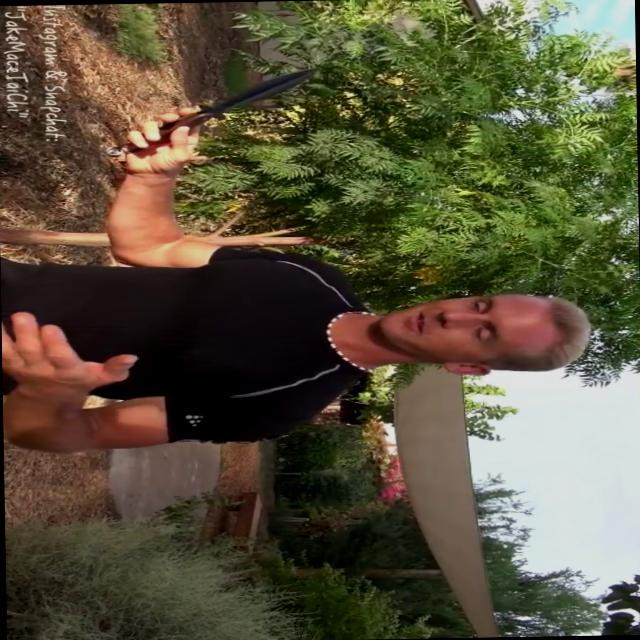knife: (144, 59, 336, 152)
